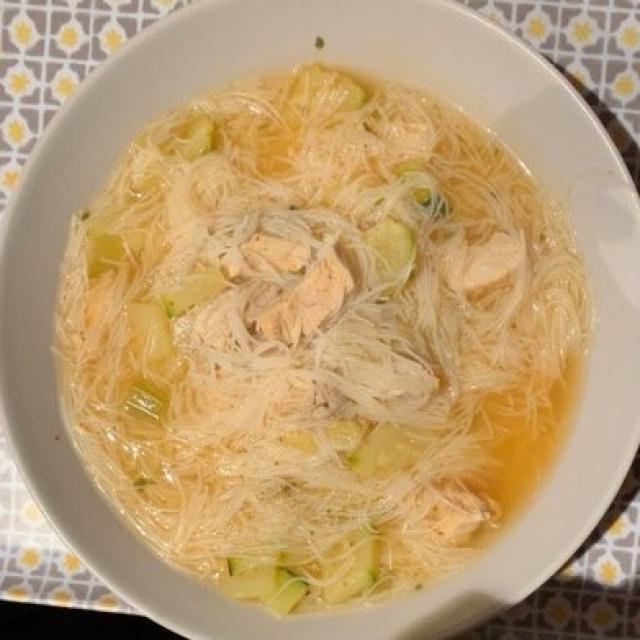bouillon: (81, 83, 561, 585)
chicken: (404, 211, 529, 543), (223, 213, 430, 342)
noodles: (71, 108, 593, 589)
